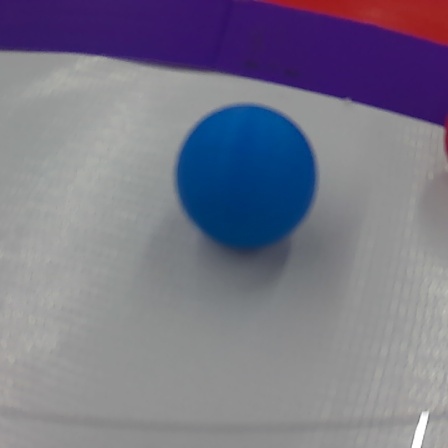blue: (179, 100, 322, 259)
